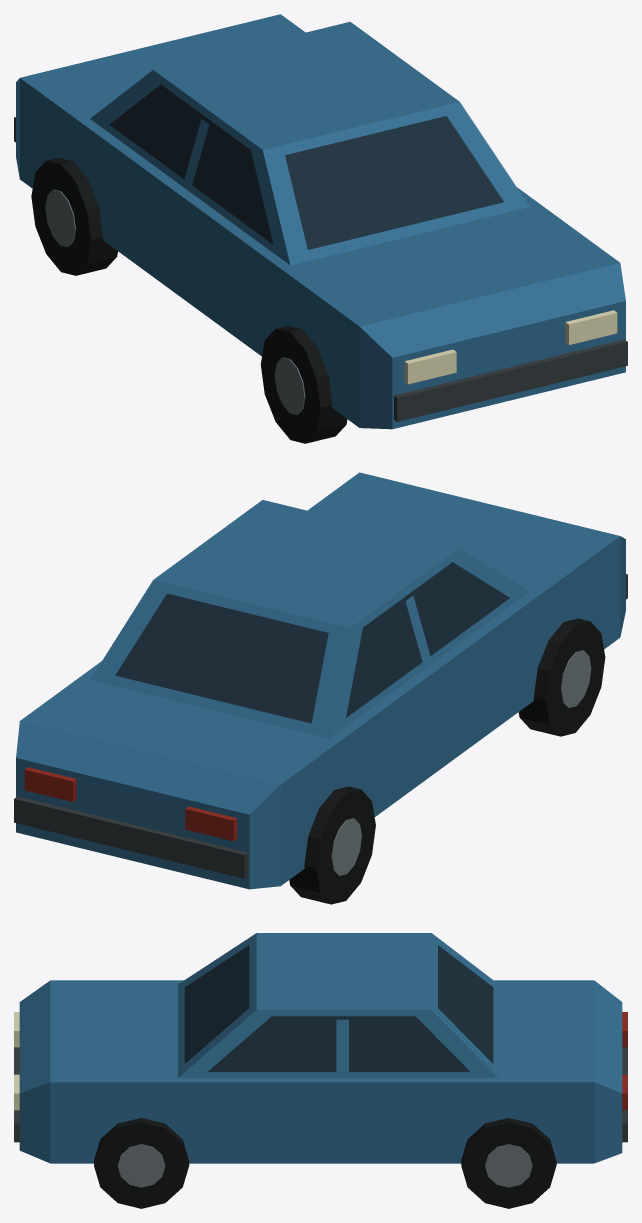
The model's file is blue_sedan.obj.
The picture shows the model from 3 angles, top to bottom: view 1: azimuth 30°, elevation 25°; view 2: azimuth 150°, elevation 25°; view 3: azimuth 270°, elevation 25°; orthographic projection. The views are drawn at different scales.
Visible parts, largest first — view 1: blue_sedan; view 2: blue_sedan; view 3: blue_sedan.
Part boxes in pixels (x1,y1,x2,y2): blue_sedan: (14,14,627,443); blue_sedan: (14,472,627,904); blue_sedan: (14,933,627,1208).
Size of the model in its own units: 1.89 by 1.43 by 4.38.
